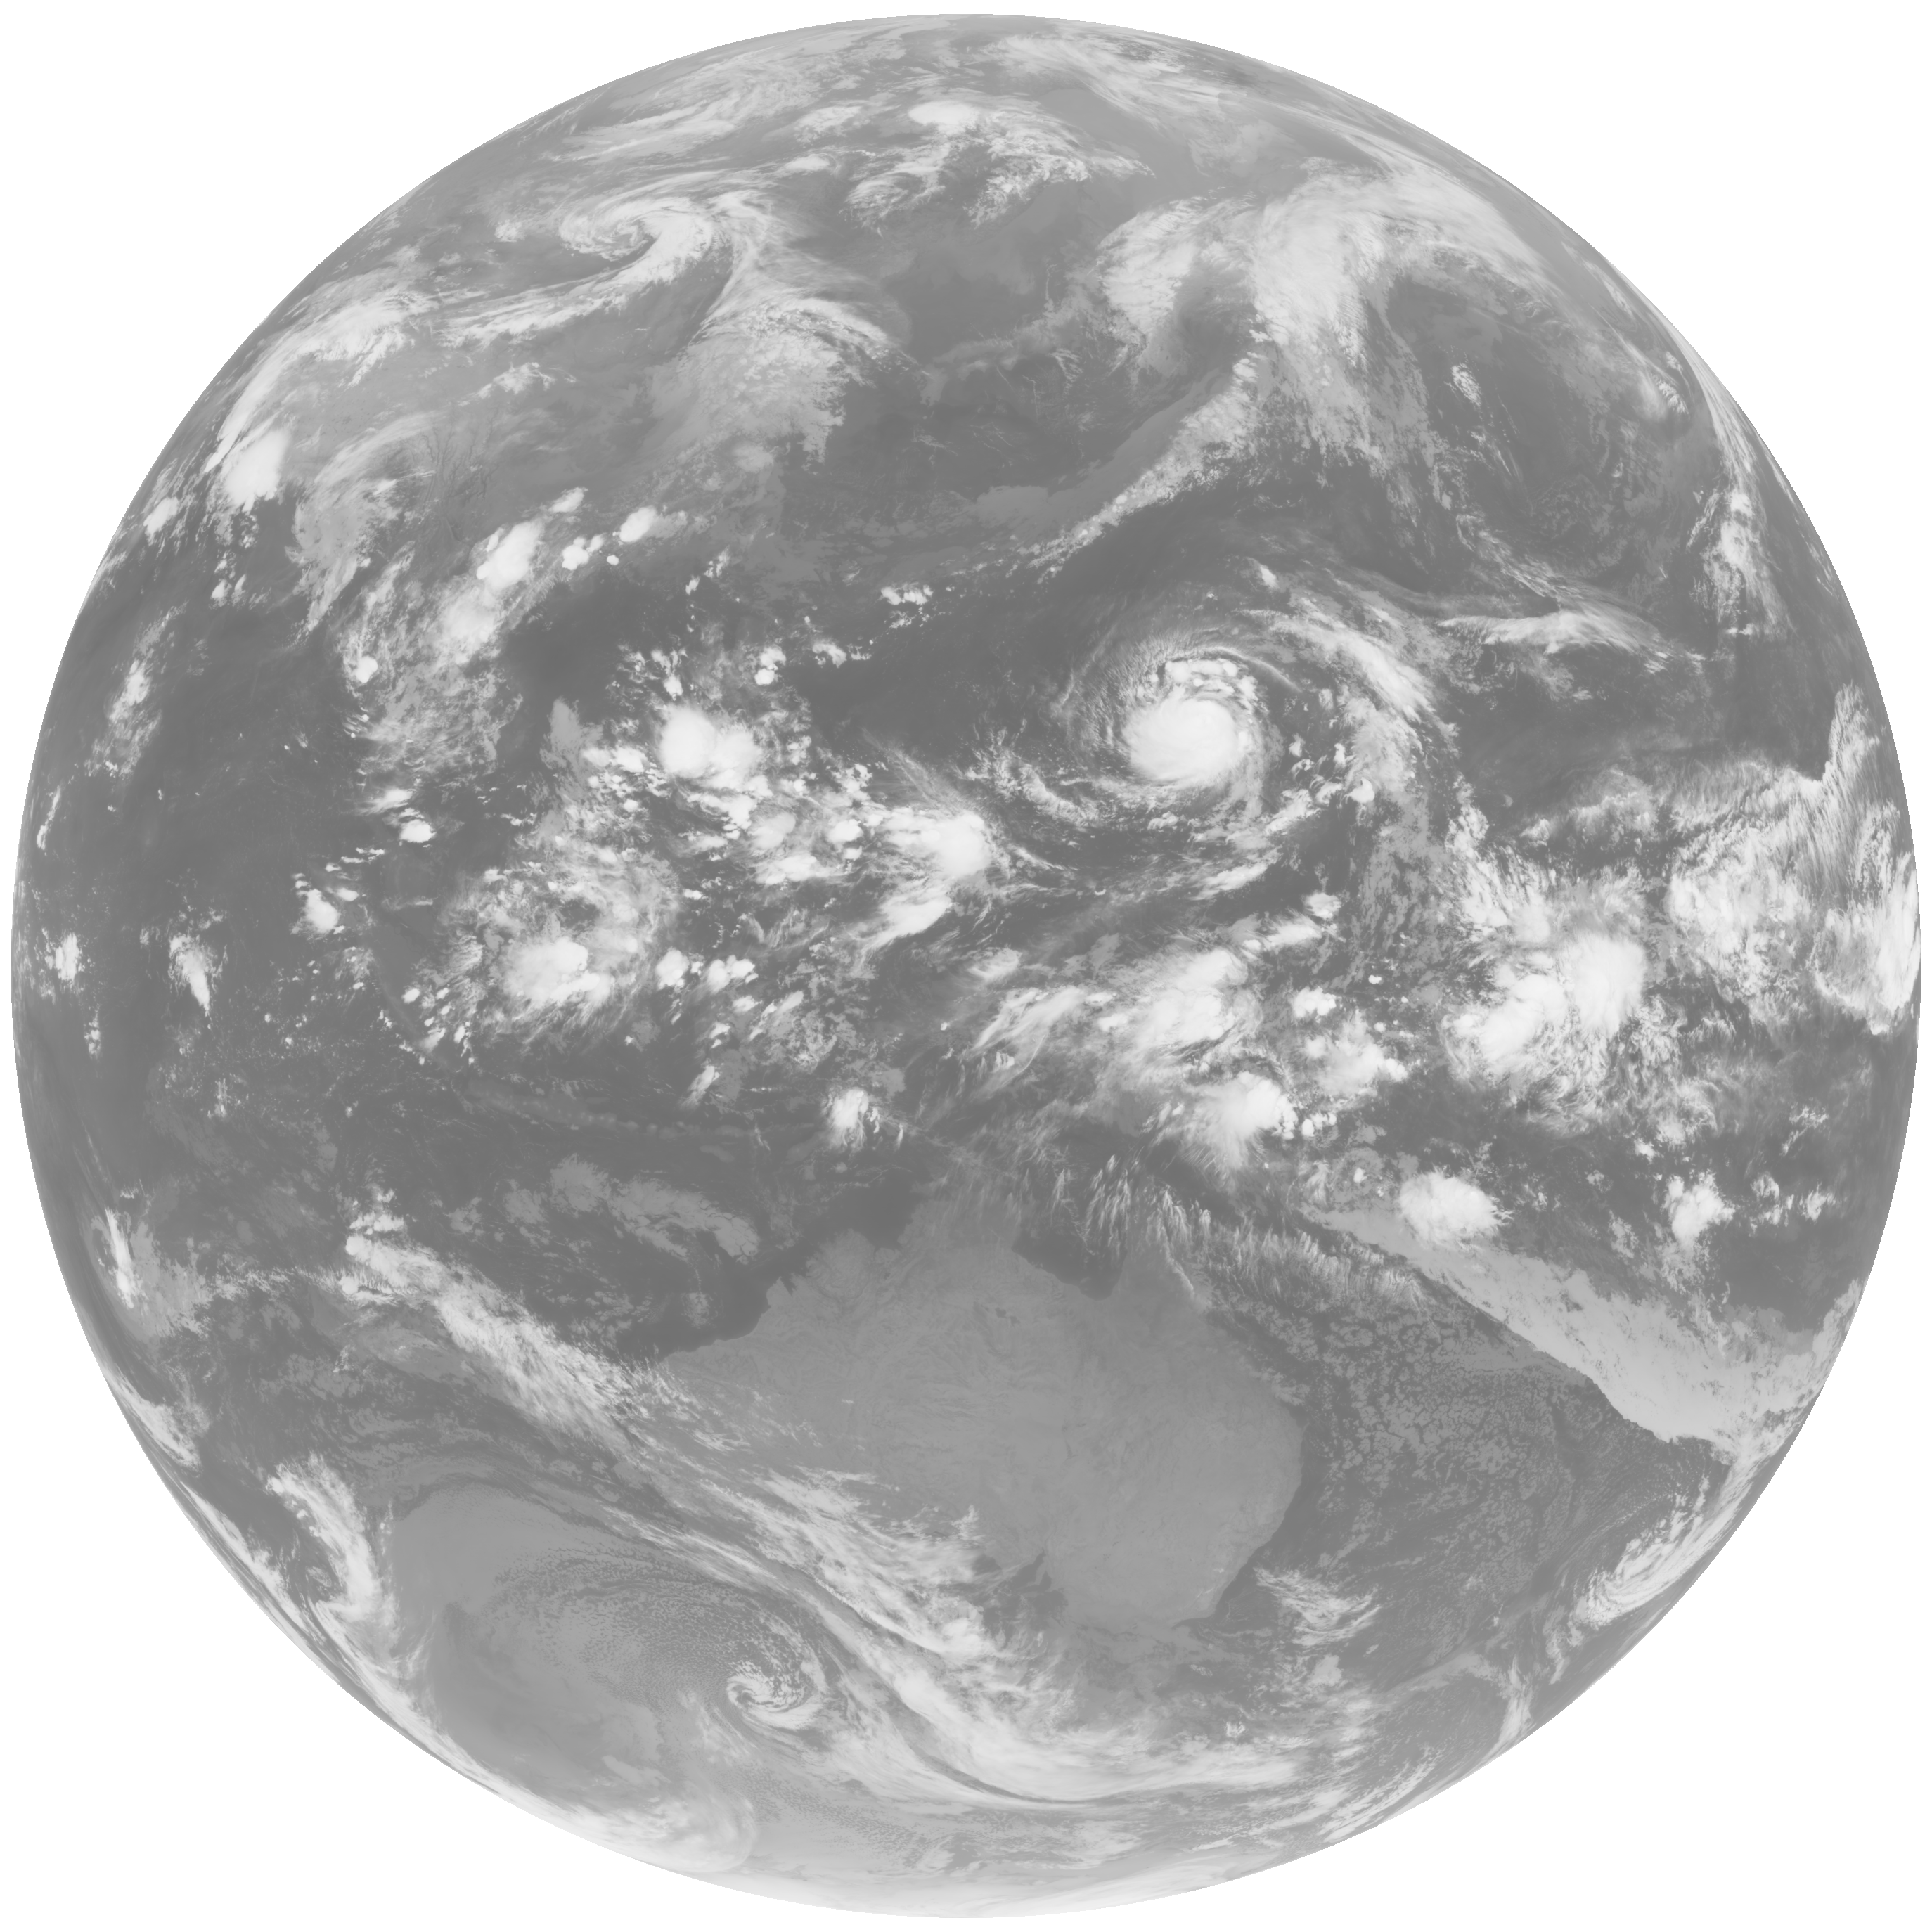typhoon: (985, 571, 1414, 895)
